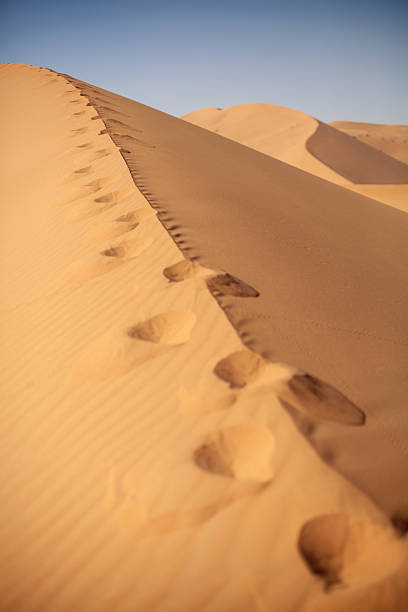human_footprint: (103, 463, 267, 539), (214, 349, 364, 425), (297, 512, 407, 611), (71, 310, 195, 380), (194, 423, 274, 482), (63, 236, 152, 282), (65, 188, 131, 220), (83, 220, 138, 243), (100, 235, 152, 259), (207, 273, 258, 297), (163, 259, 211, 282)
